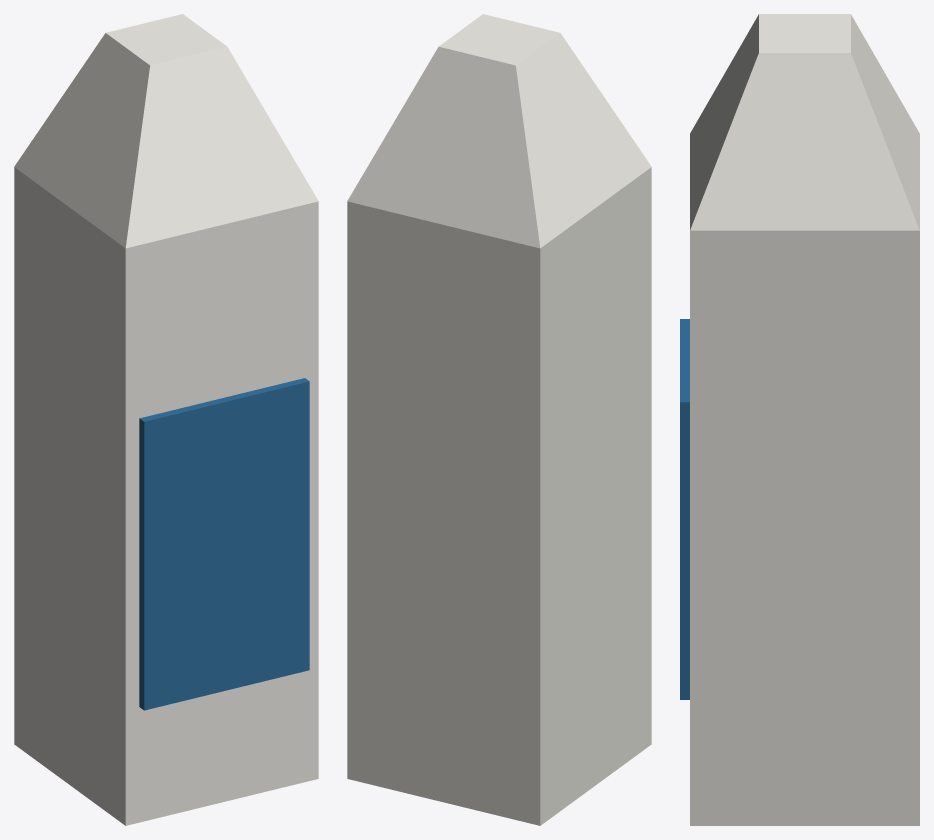
Rendered from FD_MilkCarton_01.glb.
The picture shows the model from 3 angles, left to right: view 1: azimuth 30°, elevation 25°; view 2: azimuth 150°, elevation 25°; view 3: azimuth 270°, elevation 25°; orthographic projection. The views are drawn at different scales.
Parts seen in each view (by area): view 1: FD_MilkCarton_01; view 2: FD_MilkCarton_01; view 3: FD_MilkCarton_01.
Part boxes in pixels (x1=…): FD_MilkCarton_01: x1=14, y1=14, x2=318, y2=825; FD_MilkCarton_01: x1=347, y1=14, x2=651, y2=825; FD_MilkCarton_01: x1=680, y1=14, x2=919, y2=825.
Size of the model in its own units: 0.07 by 0.25 by 0.073.
1 material, 1 textured.
